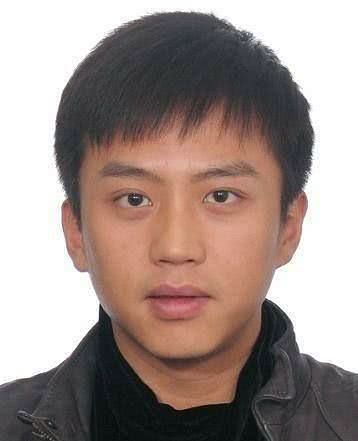unmask: (79, 144, 279, 337)
